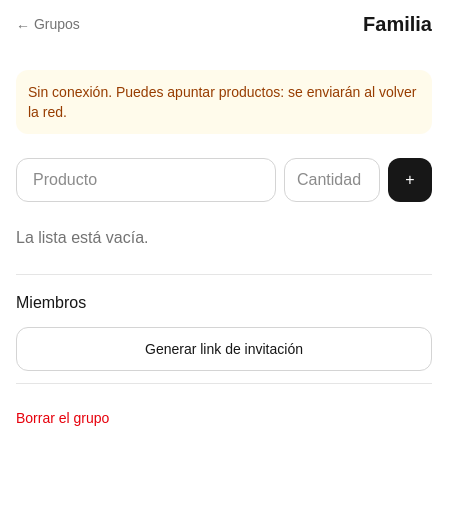
Test: R2 el corte en el cliente lo dice › un producto  avisa en vez de callar
Click the button with test id "add-item".
click(410, 180)  # box [388,158,432,202]
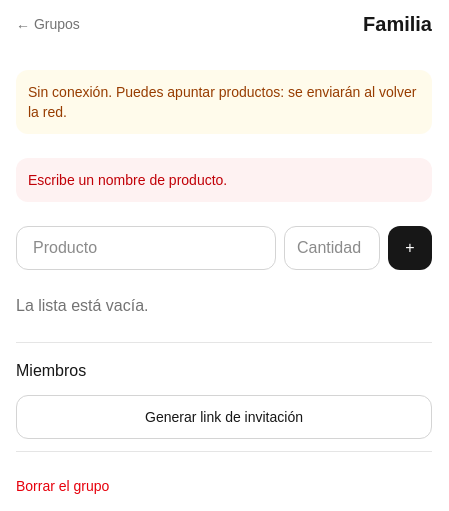
Expected: the message "Escribe un nombre de producto." is shown, [16,158,432,202]
Expected: the message with test id "notice" shows "nombre", [28,172,227,188]
